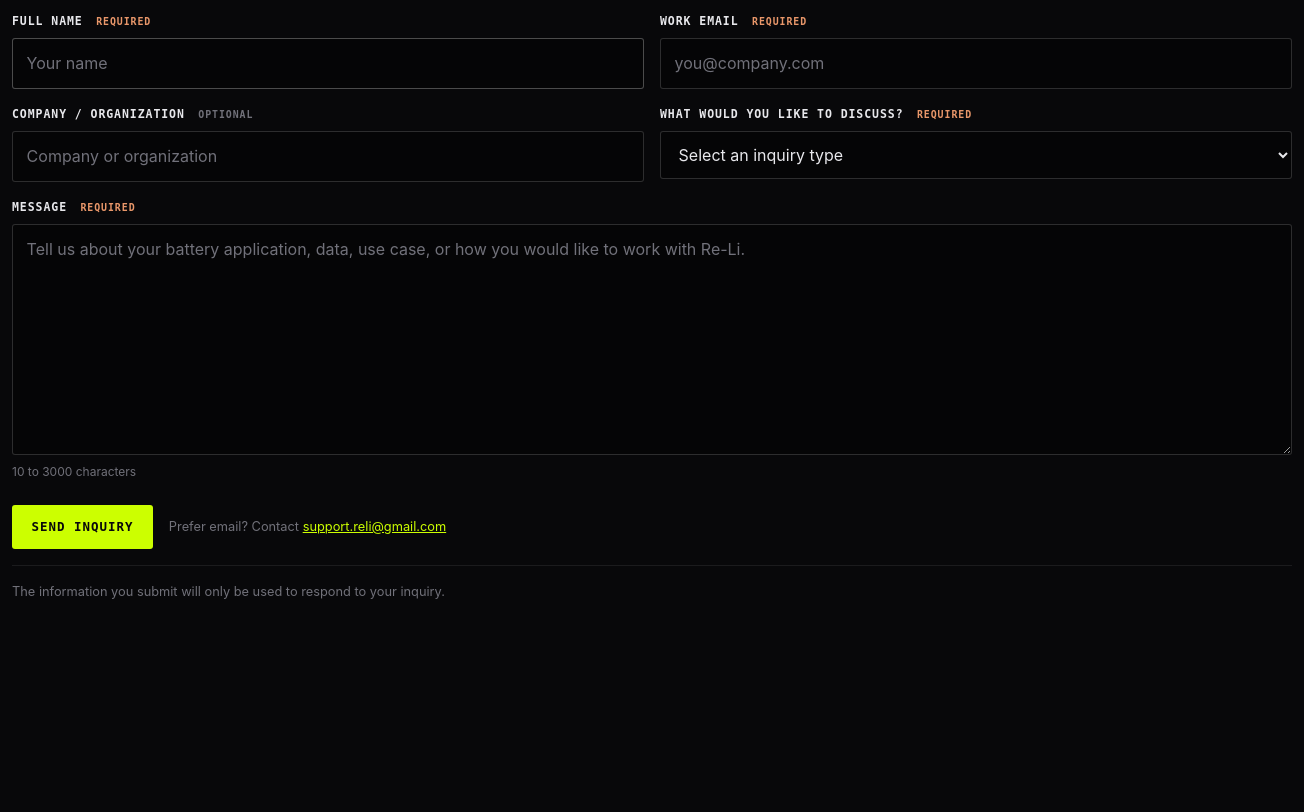
Test: contact inquiry form › rejects blank required fields and associates errors with their controls
This screenshot has width=1304, height=812.
Click the button "Send Inquiry" at (82, 527), box x1=12 y1=505 x2=153 y2=549
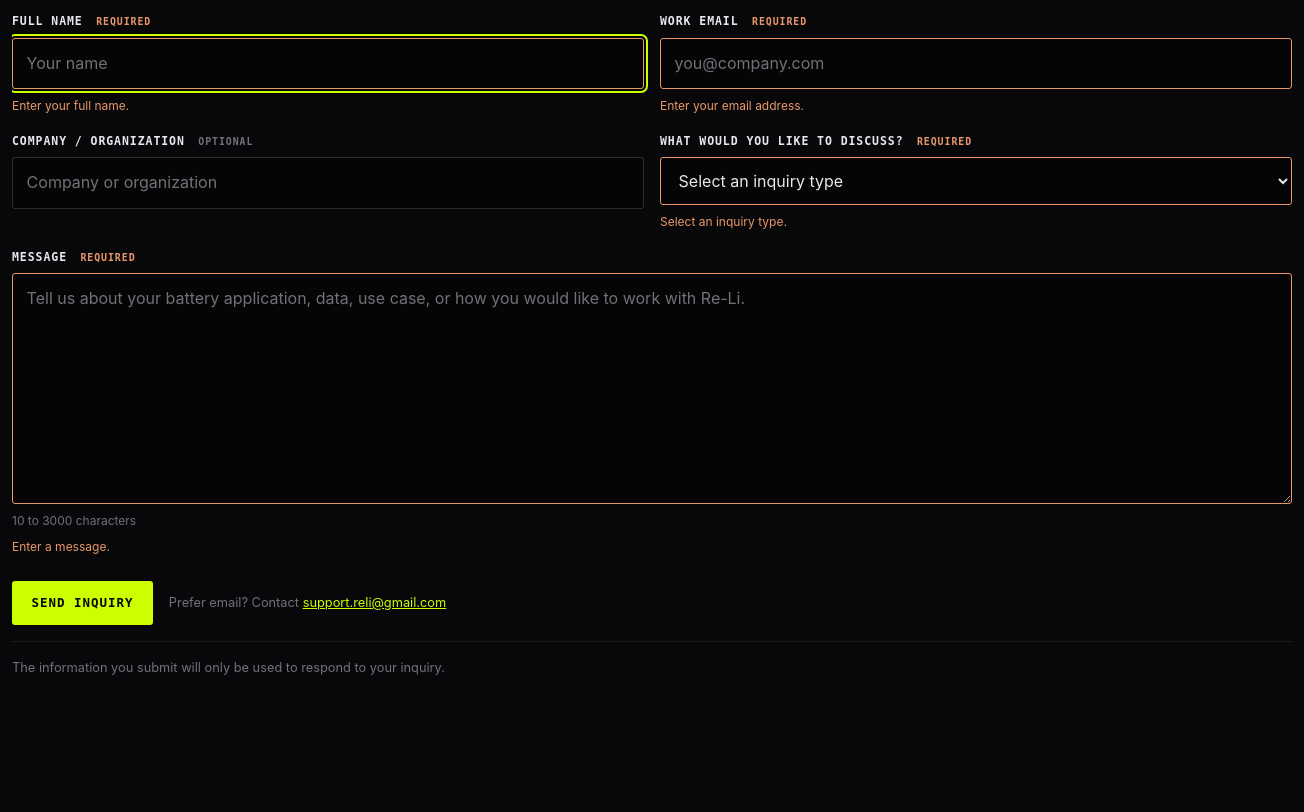
Expected: the text "Enter your full name." is shown, x1=12 y1=98 x2=129 y2=113
Expected: the text "Enter your email address." is shown, x1=660 y1=98 x2=804 y2=113
Expected: the text "Select an inquiry type." is shown, x1=660 y1=214 x2=787 y2=229
